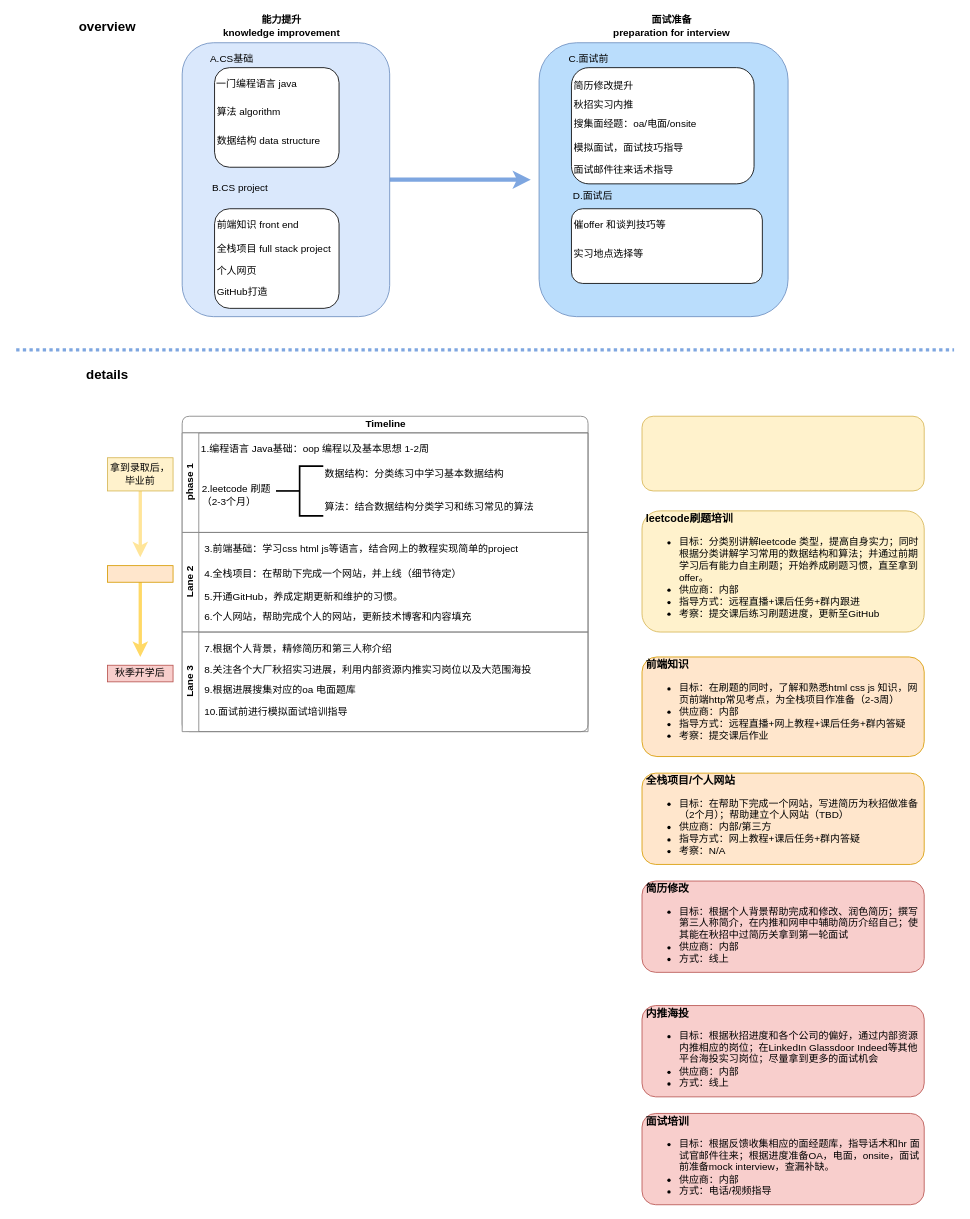
Image size: 970x1219. Some labels were removed from this diagram. The centre of each missing label's shape, as x and y in pixels:
"毕业后开学前" belongs at point (140, 573).
"编程语言培训 目标：熟悉编程语言，熟悉基本操作和ide使用 供应商：内部 指导方式：远程直播课+网上教程+课后群内跟进 考察：N/A" belongs at point (782, 453).
